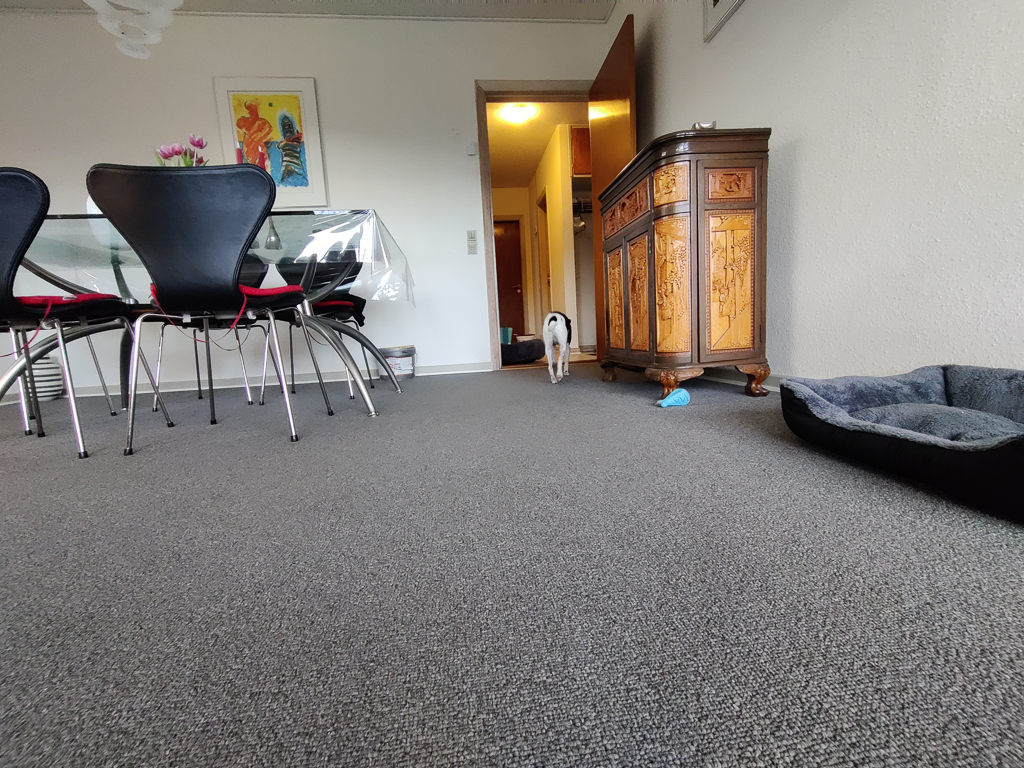Dog: (538, 307, 576, 387)
